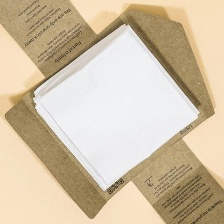tissue: (27, 18, 206, 196)
